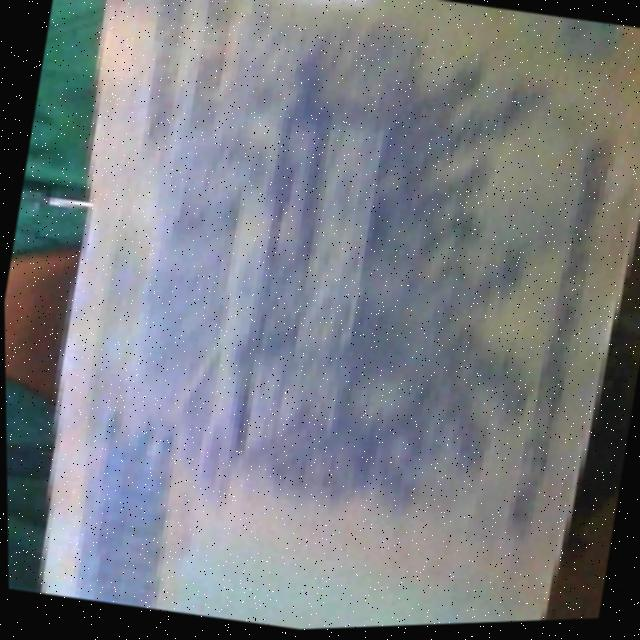500 000 VND: (2, 0, 640, 640)
